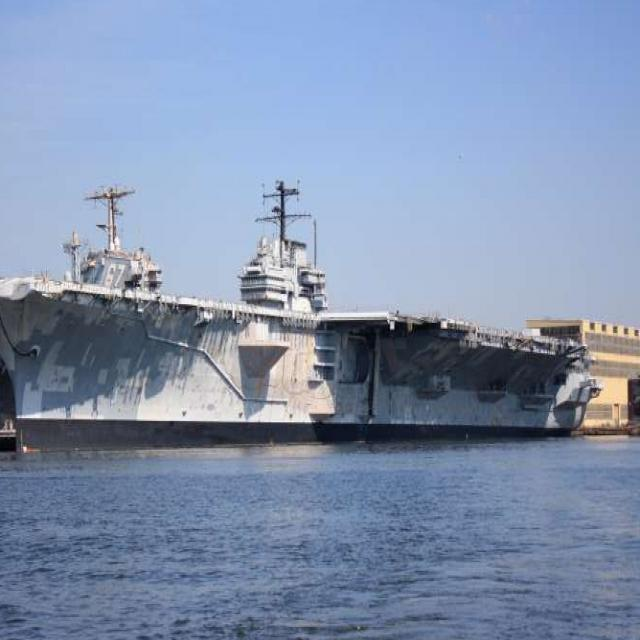Portanaves: (1, 161, 605, 467)
